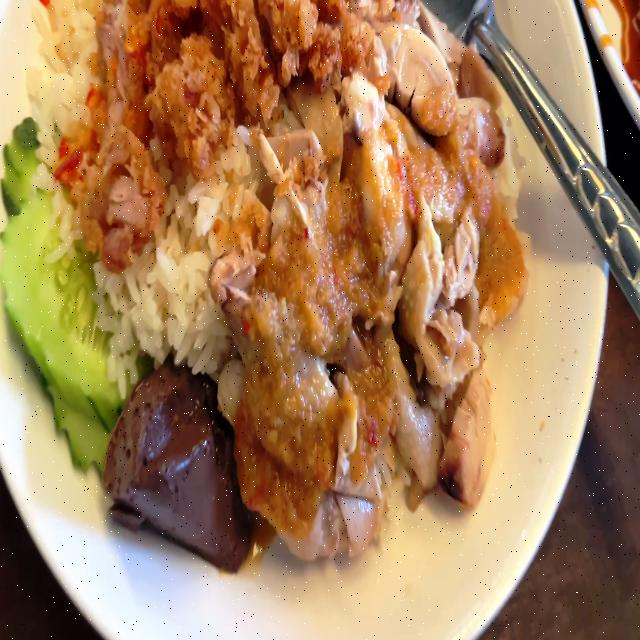boiled_chicken: (240, 22, 512, 534)
boiled_chicken_blood_jelly: (103, 360, 258, 570)
chicken_rice: (0, 0, 530, 564)
cucumber: (1, 118, 132, 472)
fried_chicken: (65, 0, 376, 264)
